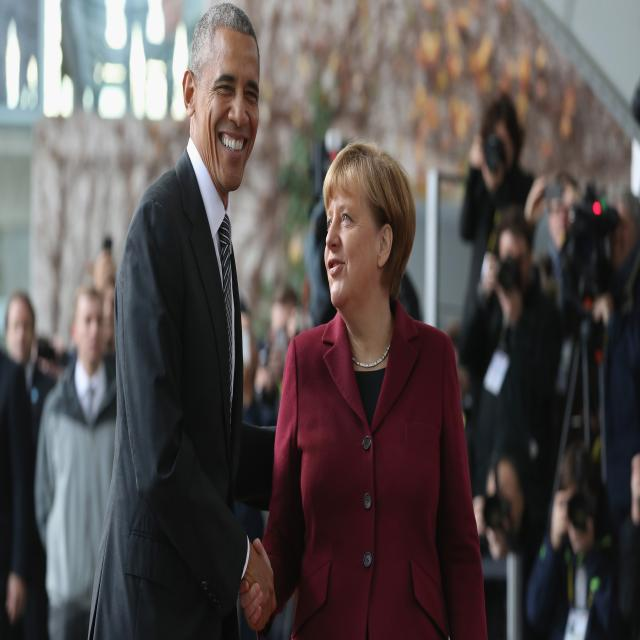body: (235, 133, 497, 640), (83, 0, 283, 640), (466, 80, 640, 637), (235, 108, 440, 552), (454, 202, 564, 490), (36, 286, 117, 640), (458, 92, 540, 370), (26, 224, 126, 449), (525, 440, 630, 640), (4, 290, 58, 448)
